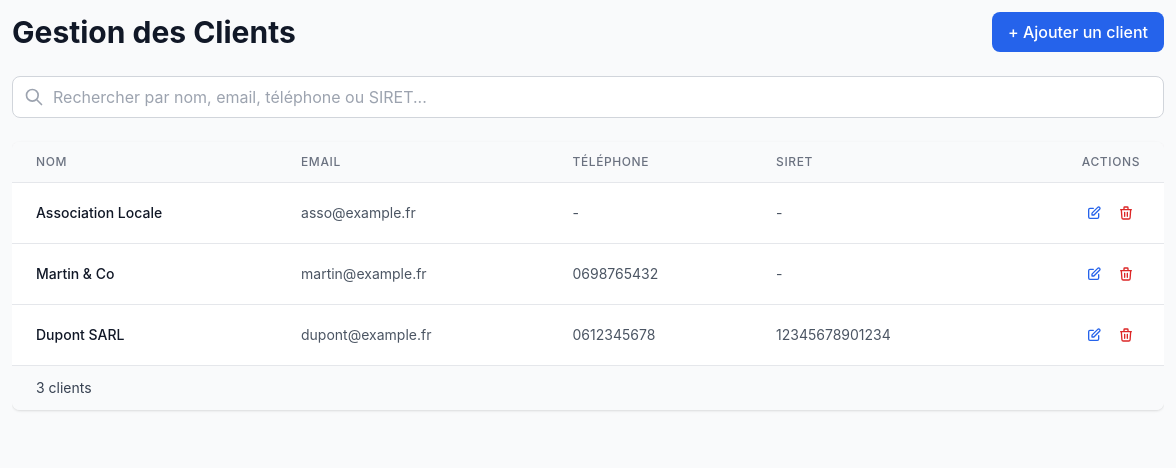
Test: Clients page › shows "Aucun client trouvé" when search matches nothing
Type "zzzznonexistent" into the field with placeholder "Rechercher par nom, email, téléphone ou SIRET...".
click(588, 97); type("zzzznonexistent")  # box [12,76,1164,118]
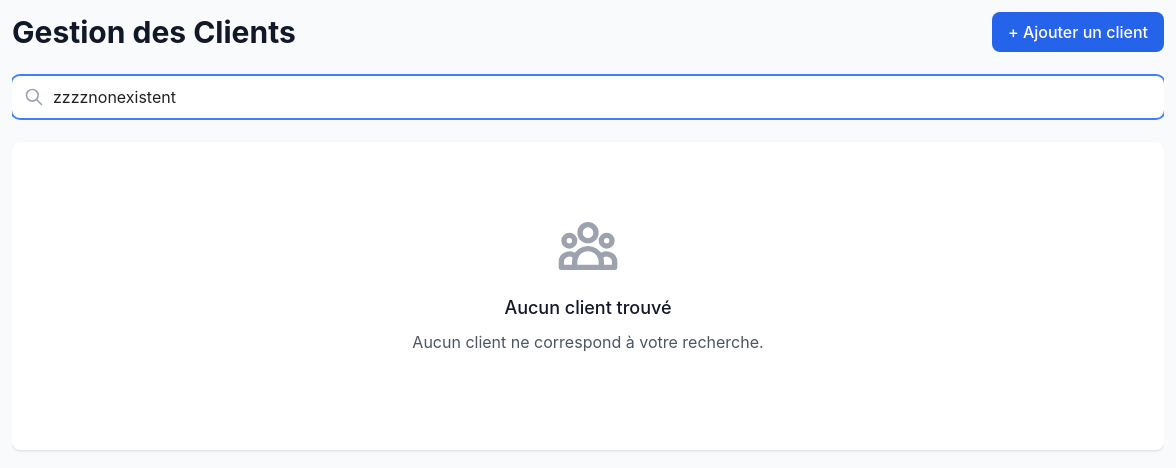
Check: the heading "Aucun client trouvé" is shown, box [504,297,672,318]
